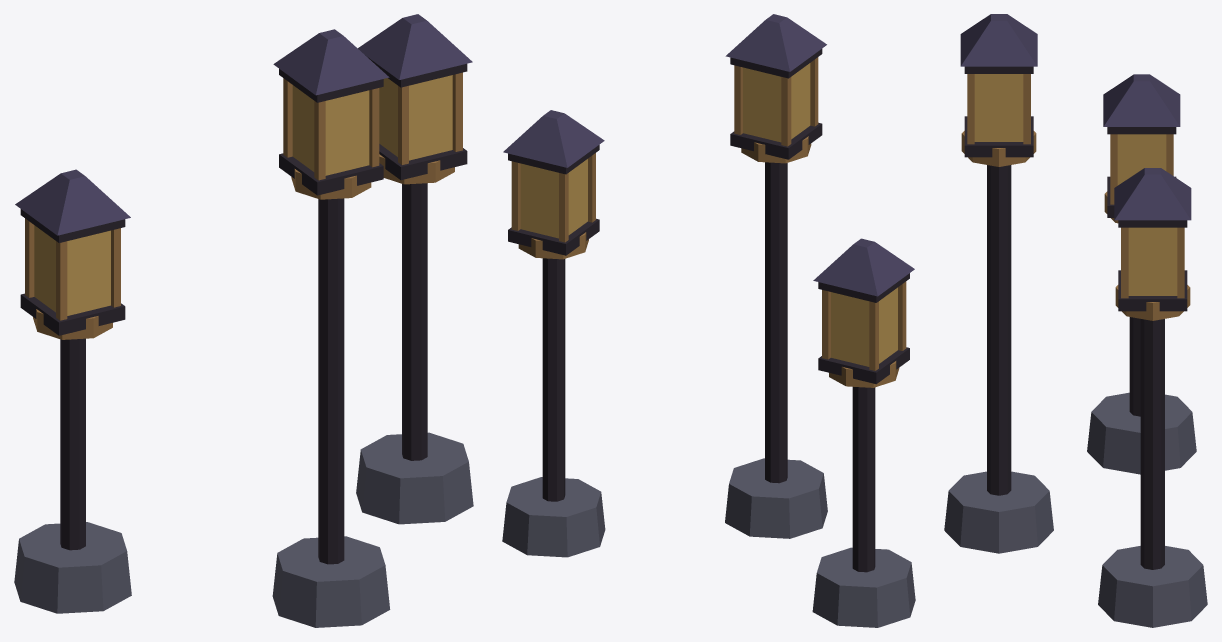
File: HauntedWoods_LanternCluster_Standard.glb
3 renders of one model, left to right at view 1: azimuth 30°, elevation 25°; view 2: azimuth 150°, elevation 25°; view 3: azimuth 270°, elevation 25°, orthographic. The views are drawn at different scales.
Visible parts, largest first — view 1: HauntedWoods_LanternCluster_Standard; view 2: HauntedWoods_LanternCluster_Standard; view 3: HauntedWoods_LanternCluster_Standard.
Boxes of the visible parts, x1=… form: HauntedWoods_LanternCluster_Standard: x1=14, y1=14, x2=473, y2=627; HauntedWoods_LanternCluster_Standard: x1=502, y1=14, x2=915, y2=627; HauntedWoods_LanternCluster_Standard: x1=944, y1=14, x2=1207, y2=627.
Size of the model in its own units: 2.15 by 2.58 by 1.2.
